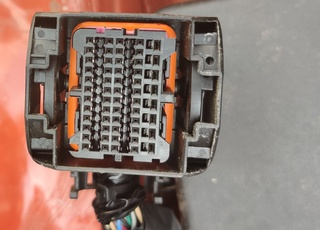connector: (25, 11, 224, 178)
